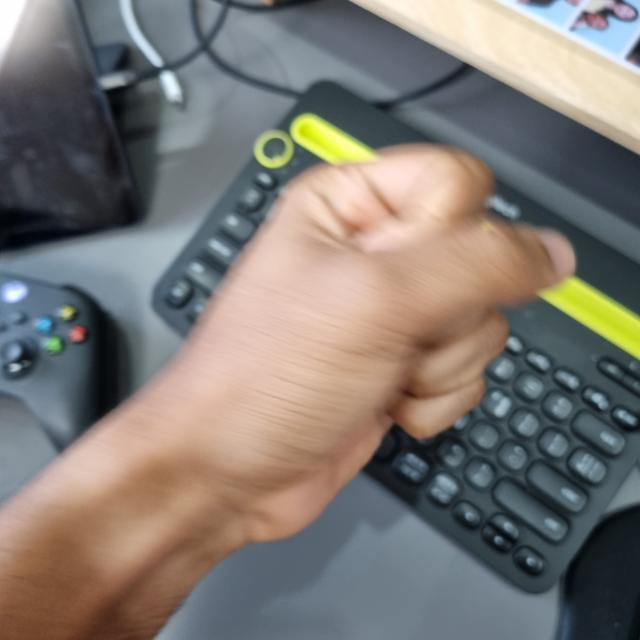Rock: (129, 149, 566, 542)
